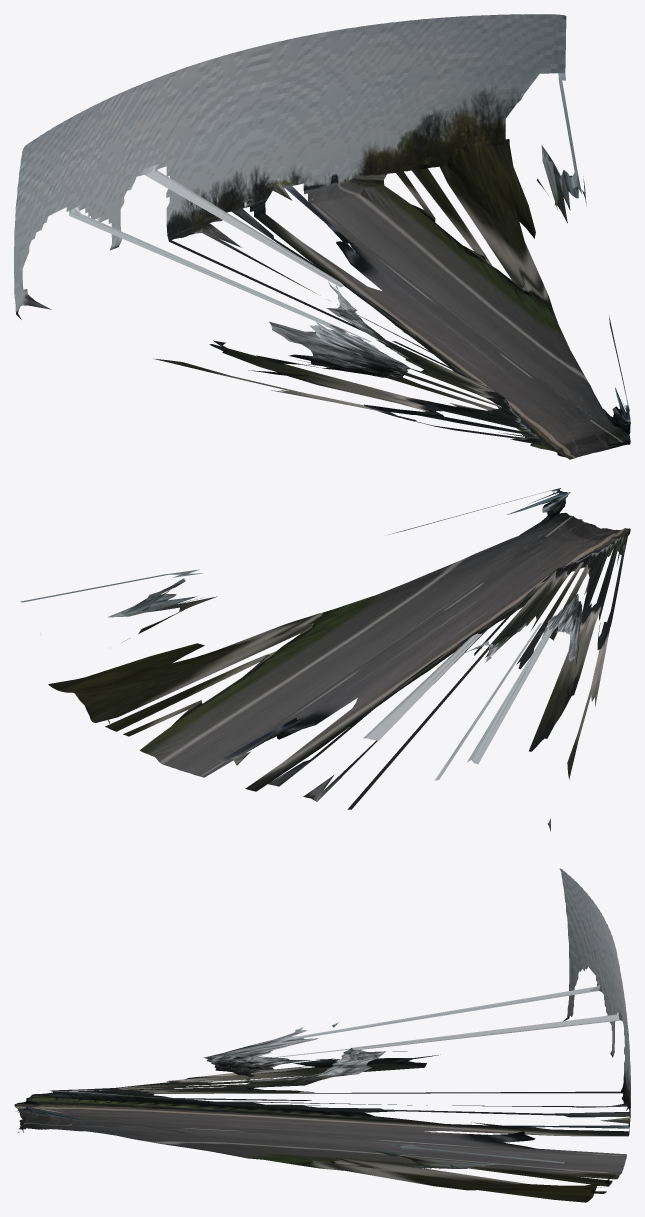
The picture shows the model from 3 angles, top to bottom: view 1: azimuth 30°, elevation 25°; view 2: azimuth 150°, elevation 25°; view 3: azimuth 270°, elevation 25°; orthographic projection. The views are drawn at different scales.
Visible parts, largest first — view 1: defaultobject; view 2: defaultobject; view 3: defaultobject.
Boxes of the visible parts, left/top/right/bottom form: defaultobject: left=14, top=14, right=630, bottom=459; defaultobject: left=20, top=488, right=630, bottom=831; defaultobject: left=14, top=868, right=630, bottom=1202.
Bounding box in the file's own units: 41.06 × 13.53 × 44.72.
Materials: 1 (1 with a texture image).
